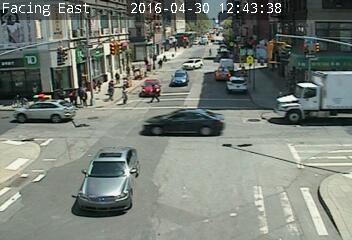neg: (237, 121, 260, 151), (321, 174, 343, 203), (7, 144, 26, 168), (113, 160, 128, 180), (7, 93, 19, 109), (30, 85, 41, 100), (310, 139, 321, 153), (262, 80, 272, 93), (261, 2, 268, 11), (191, 36, 197, 44), (229, 34, 235, 41), (210, 34, 216, 41)
pos: (119, 85, 133, 105), (148, 84, 161, 102), (107, 79, 120, 97), (78, 90, 91, 108), (68, 89, 80, 105), (94, 78, 104, 93), (156, 57, 164, 67), (208, 47, 215, 56)
